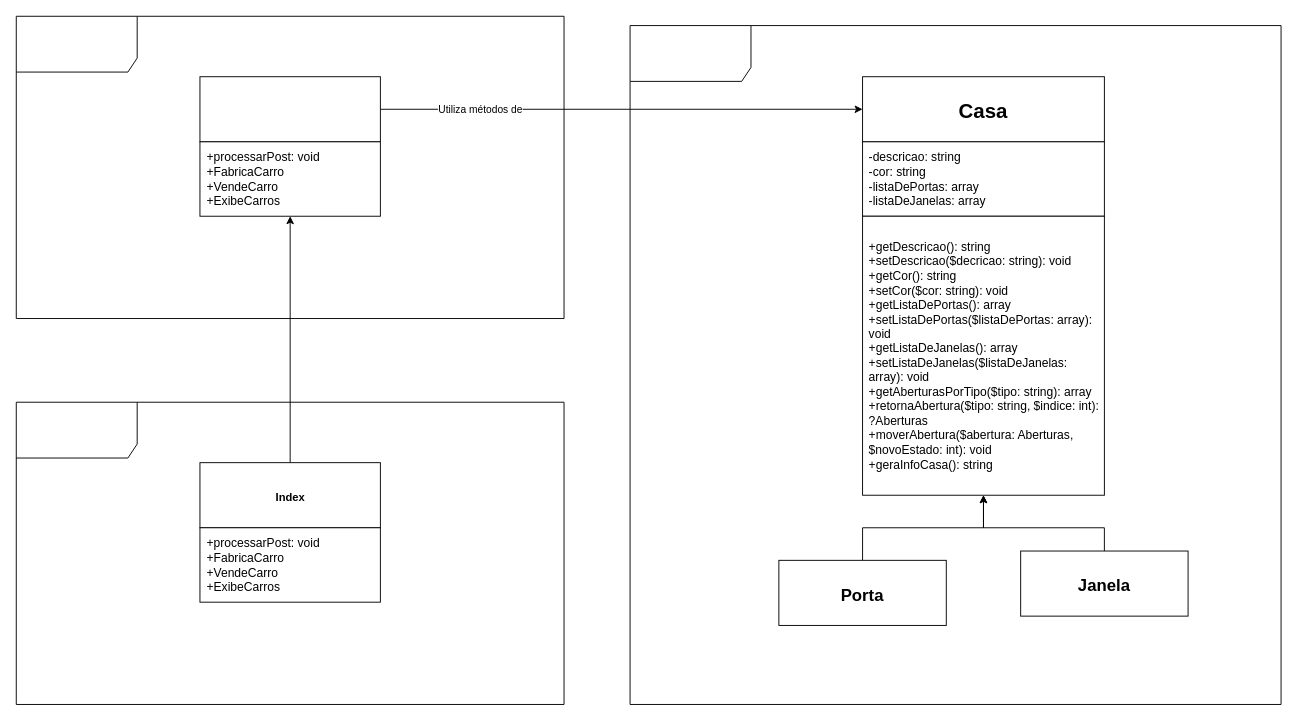
Some shapes in this 1297 by 721 pixel diagram are drawn without their labels. The shapes that lost their labels are listed below. From the top down, each one's box as (x1, y1, x2, y2) in pixels, then its label:
(199, 76, 380, 142): Processa
(15, 15, 564, 319): Controlador
(629, 25, 1281, 704): Modelo
(15, 401, 564, 704): Visualizador
